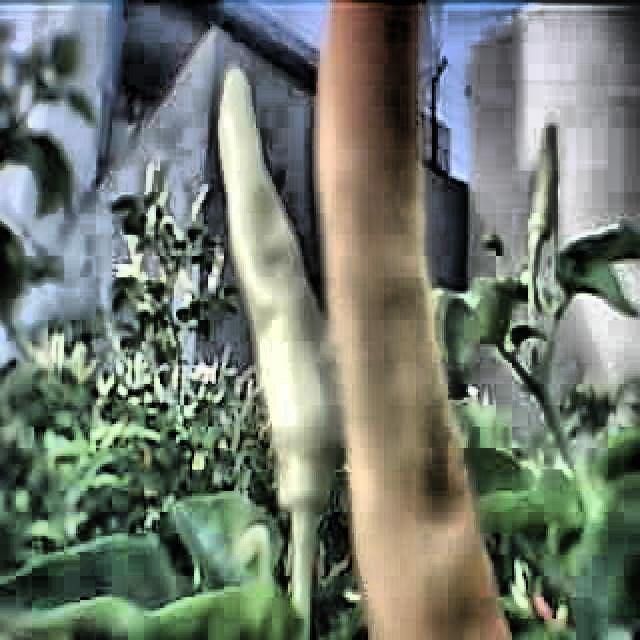Cabai: (318, 0, 536, 629)
